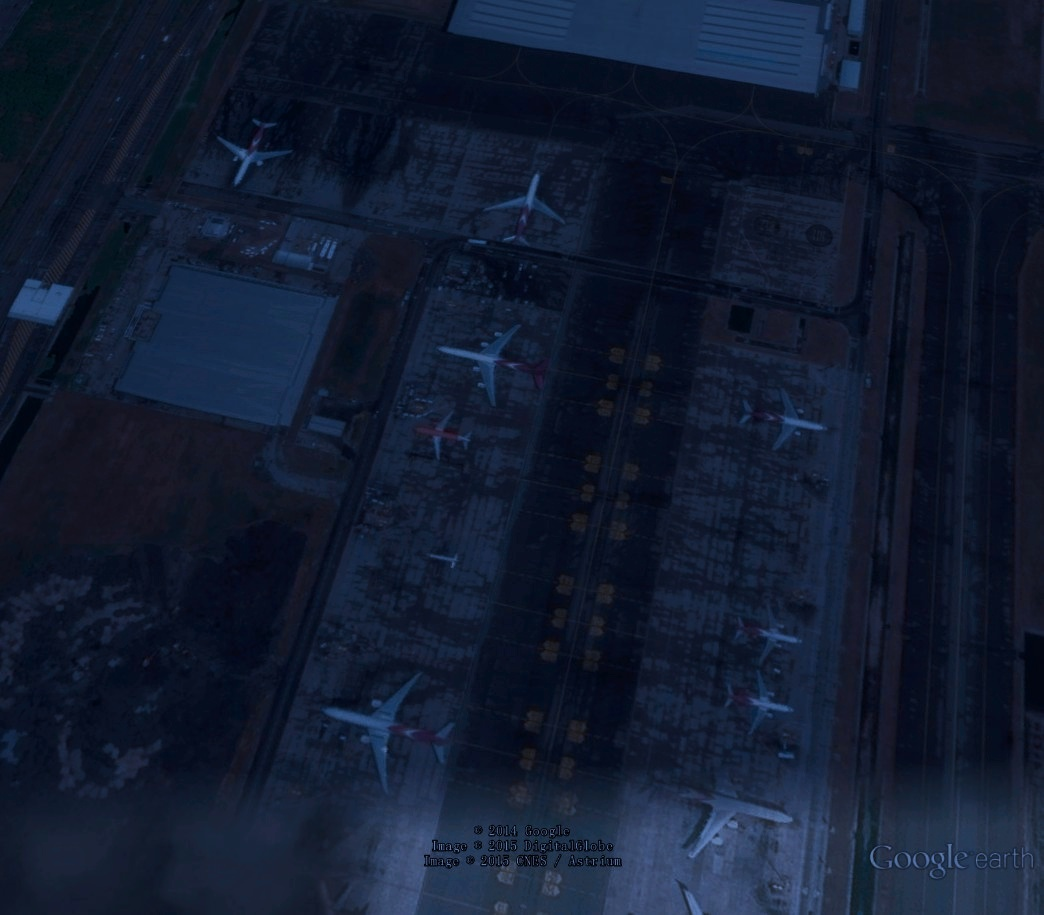aircraft: (637, 744, 802, 867), (316, 669, 465, 805), (429, 321, 555, 415), (732, 381, 844, 456), (474, 168, 570, 253), (213, 112, 294, 192), (715, 661, 798, 739), (726, 597, 808, 667), (411, 406, 480, 468)
